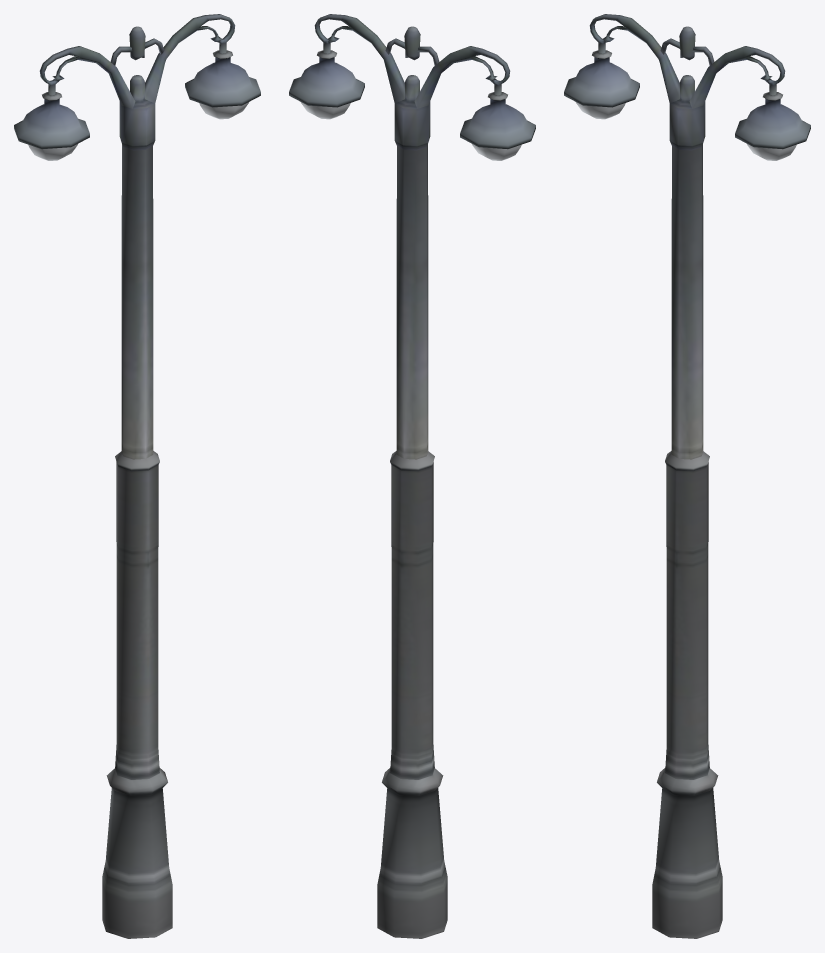
Rendered from MoscowLampPost.obj.
3 renders of one model, left to right at view 1: azimuth 30°, elevation 25°; view 2: azimuth 150°, elevation 25°; view 3: azimuth 330°, elevation 25°, orthographic.
Visible parts, largest first — view 1: Cylinder; view 2: Cylinder; view 3: Cylinder.
Boxes of the visible parts, x1,y1,x2,y2 form: Cylinder: [14, 14, 260, 938]; Cylinder: [289, 14, 535, 938]; Cylinder: [564, 14, 810, 938].
Size of the model in its own units: 69.32 by 250 by 19.37.
